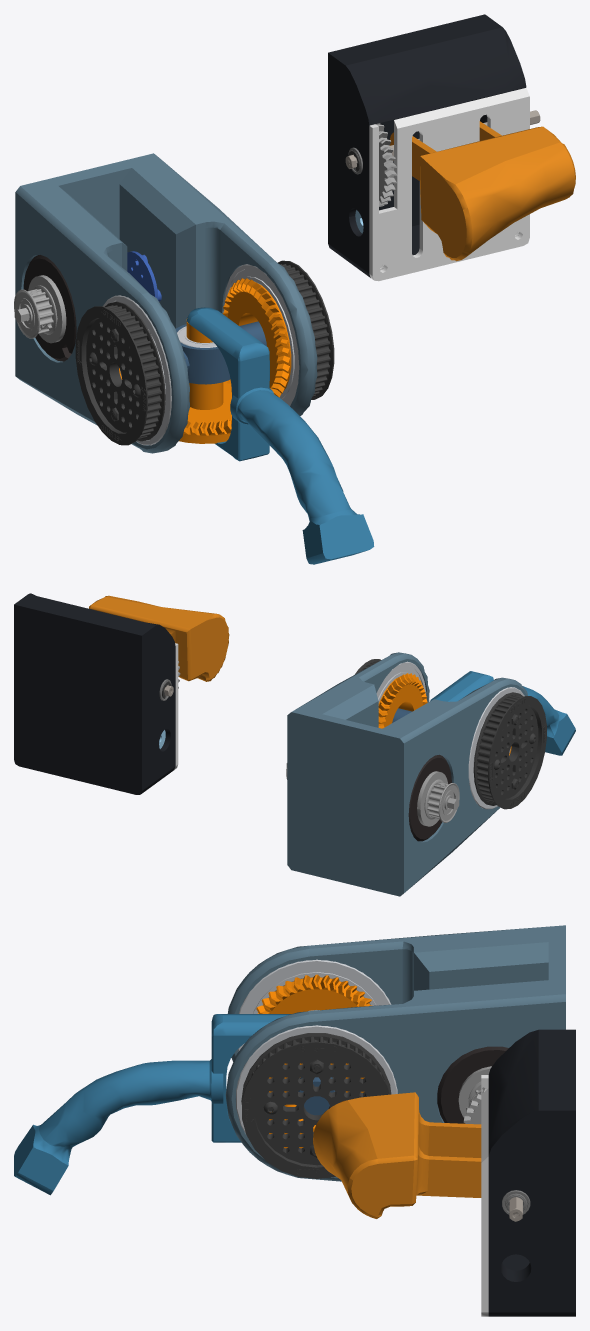
Rendered from flight-sim-controls.glb.
3 renders of one model, top to bottom at view 1: azimuth 30°, elevation 25°; view 2: azimuth 150°, elevation 25°; view 3: azimuth 270°, elevation 25°, orthographic. The views are drawn at different scales.
Parts seen in each view (by area): view 1: Base, Part 3 (×2), Part 1, Part 5, 3415 Series 5mm HTD Pitch Hub Mount Timing Belt Pulley (14mm (×2), Part 4, Spiral Bevel 1.7M 40T 45deg (×2), GB54-2 Gimbal Motor, Part 2, 6656K238_Steel Ball Bearing (×2), 3417 Series 5mm HTD Pitch Set-Screw Pinion Timing Belt Pulle, 16T Pulley Adapter (+1 smaller); view 2: Base, Part 3, 3415 Series 5mm HTD Pitch Hub Mount Timing Belt Pulley (14mm, Part 1, Part 5, Spiral Bevel 1.7M 40T 45deg, GB54-2 Gimbal Motor, 3417 Series 5mm HTD Pitch Set-Screw Pinion Timing Belt Pulle, 16T Pulley Adapter, 6656K238_Steel Ball Bearing, Part 4; view 3: Base, Part 3, Part 1, Part 5, 3415 Series 5mm HTD Pitch Hub Mount Timing Belt Pulley (14mm, 6656K238_Steel Ball Bearing (×4), Spiral Bevel 1.7M 40T 45deg, GB54-2 Gimbal Motor, Part 4, 16T Pulley Adapter, Part 2.
Boxes of the visible parts, x1,y1,x2,y2 form: Base: [15, 153, 317, 453]; Part 3 (×2): [127, 14, 526, 301]; Part 1: [389, 121, 575, 261]; Part 5: [187, 307, 374, 564]; 3415 Series 5mm HTD Pitch Hub Mount Timing Belt Pulley (14mm (×2): [75, 260, 334, 445]; Part 4: [369, 88, 529, 281]; Spiral Bevel 1.7M 40T 45deg (×2): [179, 278, 291, 443]; GB54-2 Gimbal Motor: [23, 255, 76, 361]; Part 2: [175, 321, 266, 384]; 6656K238_Steel Ball Bearing (×2): [103, 269, 297, 445]; 3417 Series 5mm HTD Pitch Set-Screw Pinion Timing Belt Pulle: [14, 285, 57, 338]; 16T Pulley Adapter: [14, 275, 66, 343]; Base: [287, 652, 527, 896]; Part 3: [14, 593, 175, 794]; 3415 Series 5mm HTD Pitch Hub Mount Timing Belt Pulley (14mm: [473, 692, 546, 809]; Part 1: [89, 595, 229, 681]; Part 5: [430, 671, 575, 755]; Spiral Bevel 1.7M 40T 45deg: [378, 673, 427, 728]; GB54-2 Gimbal Motor: [408, 754, 451, 841]; 3417 Series 5mm HTD Pitch Set-Screw Pinion Timing Belt Pulle: [424, 779, 459, 822]; 16T Pulley Adapter: [417, 771, 459, 826]; 6656K238_Steel Ball Bearing: [468, 687, 524, 809]; Part 4: [174, 643, 178, 769]; Base: [225, 925, 565, 1181]; Part 3: [488, 1029, 575, 1316]; Part 1: [313, 1092, 481, 1218]; Part 5: [14, 1014, 291, 1195]; 3415 Series 5mm HTD Pitch Hub Mount Timing Belt Pulley (14mm: [241, 1033, 391, 1178]; 6656K238_Steel Ball Bearing (×4): [236, 959, 397, 1133]; Spiral Bevel 1.7M 40T 45deg: [256, 974, 372, 1013]; GB54-2 Gimbal Motor: [437, 1046, 508, 1123]; Part 4: [481, 1075, 488, 1316]; 16T Pulley Adapter: [458, 1066, 491, 1116]; Part 2: [298, 1077, 335, 1115].
Size of the model in its own units: 0.3369 by 0.1614 by 0.2932.
